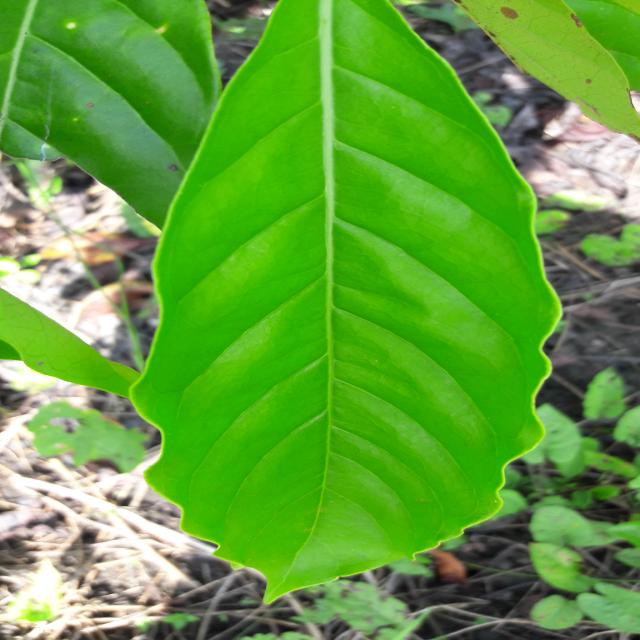Sanas: (96, 0, 563, 606)
